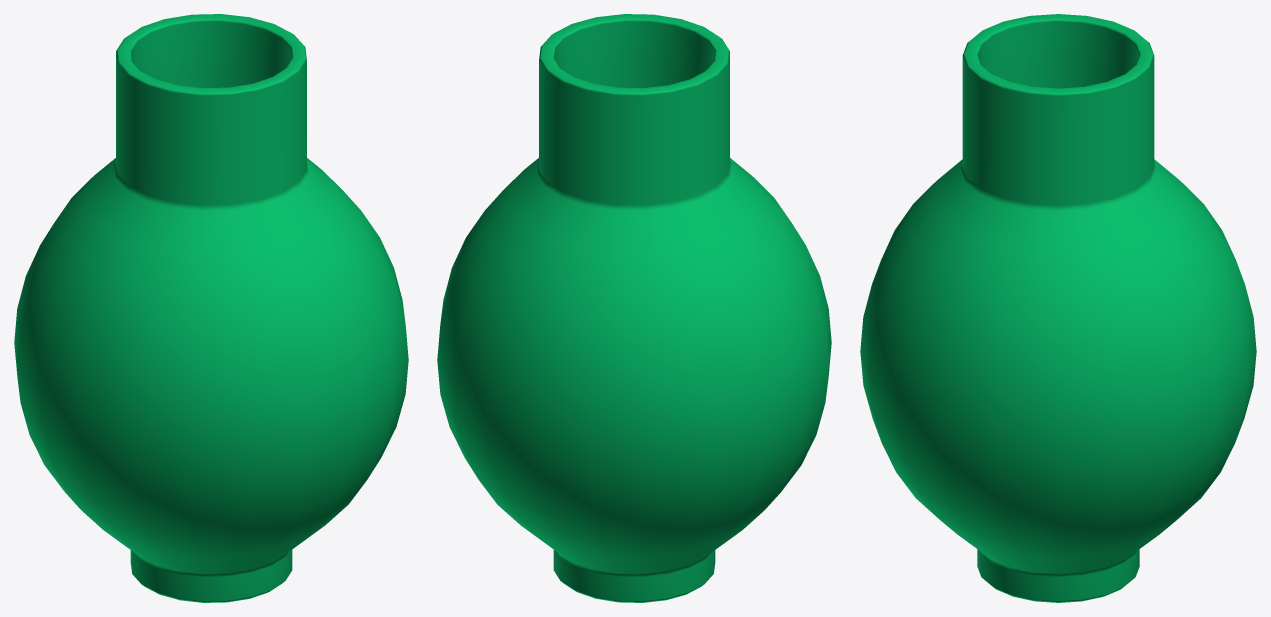
Rendered from Town_19_Vase_2.glb.
3 views of the same model, side by side, from view 1: azimuth 30°, elevation 25°; view 2: azimuth 150°, elevation 25°; view 3: azimuth 270°, elevation 25° (orthographic).
Parts seen in each view (by area): view 1: Town_19_Vase_2; view 2: Town_19_Vase_2; view 3: Town_19_Vase_2.
Part boxes in pixels (bbox=[...]): Town_19_Vase_2: bbox=[14, 14, 408, 602]; Town_19_Vase_2: bbox=[437, 14, 831, 602]; Town_19_Vase_2: bbox=[860, 14, 1256, 602].
Size of the model in its own units: 0.5054 by 0.7273 by 0.5054.
Materials: 1 (1 with a texture image).
